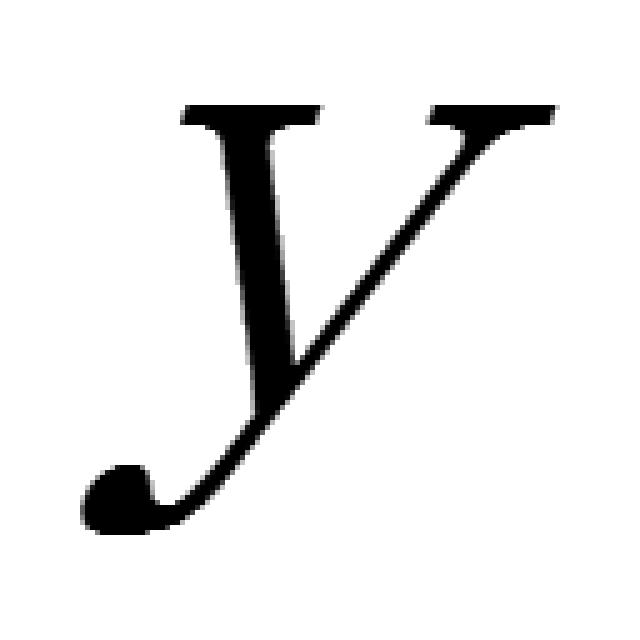Y: (70, 85, 560, 540)
